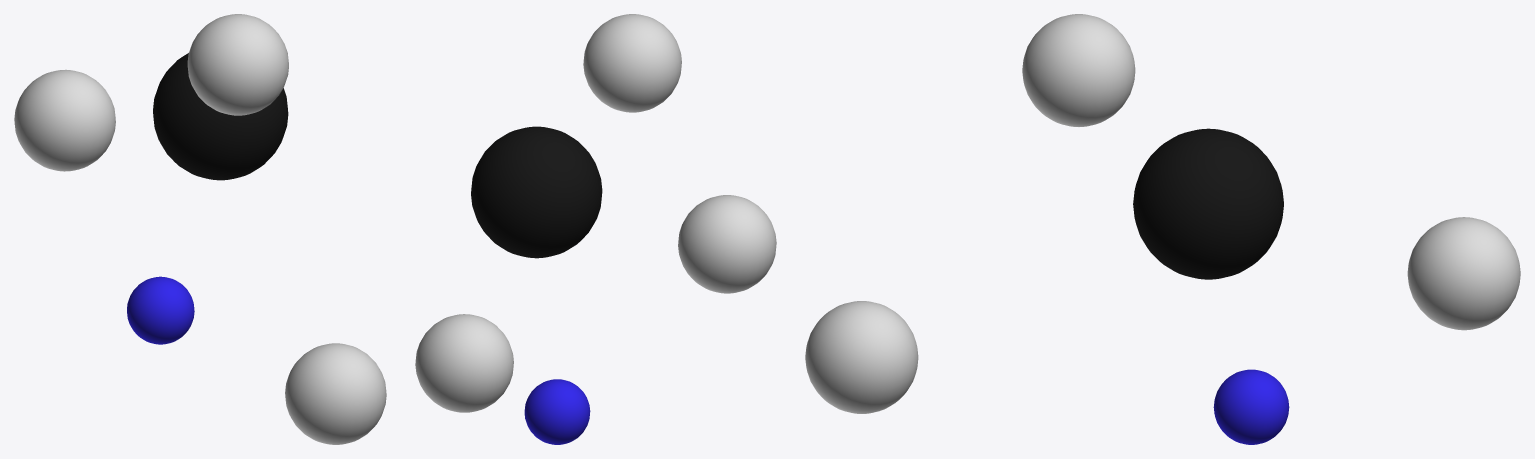
File: spheres.glb
3 views of the same model, side by side, from view 1: azimuth 30°, elevation 25°; view 2: azimuth 150°, elevation 25°; view 3: azimuth 270°, elevation 25° (orthographic). The views are drawn at different scales.
Visible parts, largest first — view 1: black, white.001, white.002, white, blue; view 2: black, white.001, white, white.002, blue; view 3: black, white.002, white, white.001, blue.
Part boxes in pixels (x1,y1,x2,y2): black: (153,53,288,180); white.001: (187,14,288,115); white.002: (14,69,115,171); white: (285,343,386,444); blue: (127,276,194,344); black: (471,126,602,258); white.001: (583,14,681,112); white: (678,195,776,293); white.002: (415,314,513,412); blue: (524,379,590,444); black: (1133,128,1283,279); white.002: (1407,217,1520,330); white: (805,301,918,413); white.001: (1022,14,1135,126); blue: (1213,369,1289,444).
Size of the model in its own units: 2.44 by 6.17 by 9.47.
